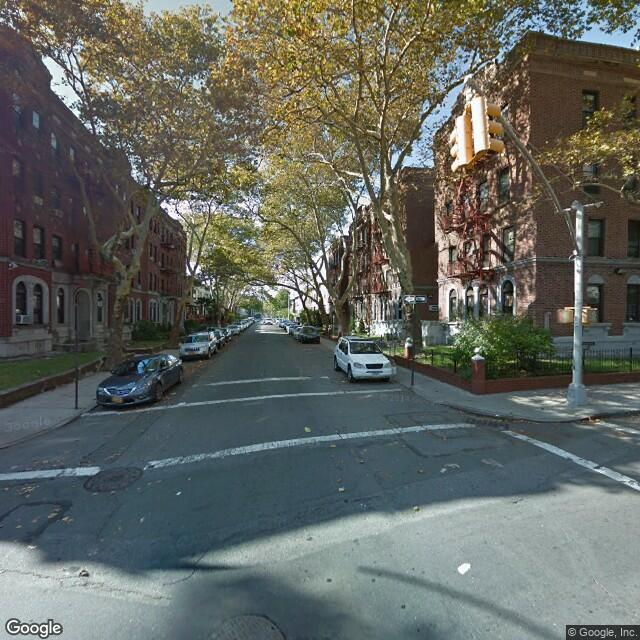litter: (453, 562, 476, 575), (492, 412, 501, 421), (438, 465, 448, 471), (337, 485, 345, 492), (173, 488, 180, 494)
